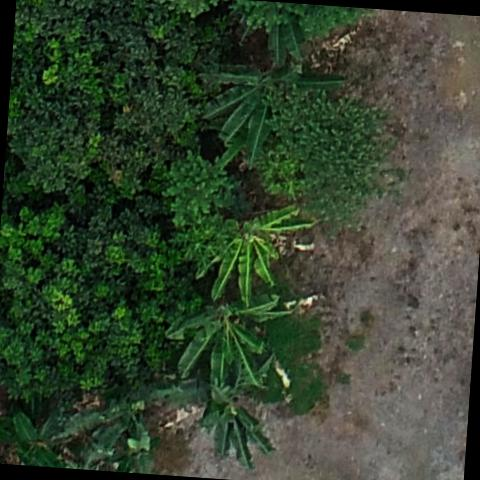Banana-plant: (188, 42, 348, 175), (185, 192, 317, 312), (160, 289, 287, 398)
